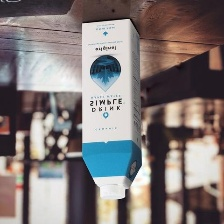carton: (80, 18, 145, 208)
